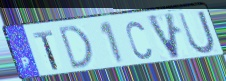1: (99, 20, 125, 66)
C: (124, 19, 154, 61)
D: (57, 24, 96, 72)
T: (31, 29, 60, 71)
U: (176, 9, 217, 56)
V: (144, 11, 183, 61)
